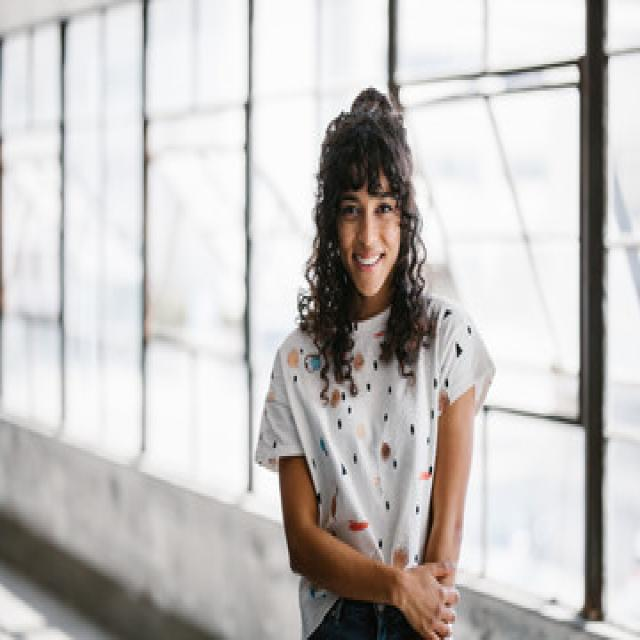person-without-mask: (240, 84, 512, 640)
